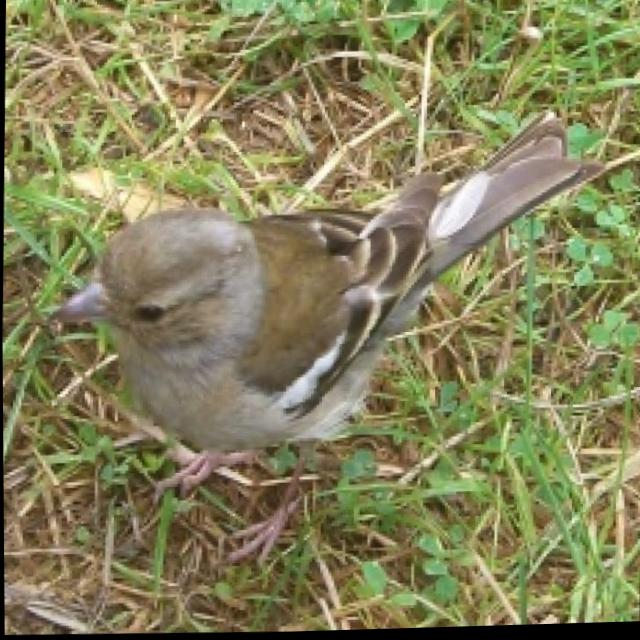sparrow: (38, 93, 606, 578)
